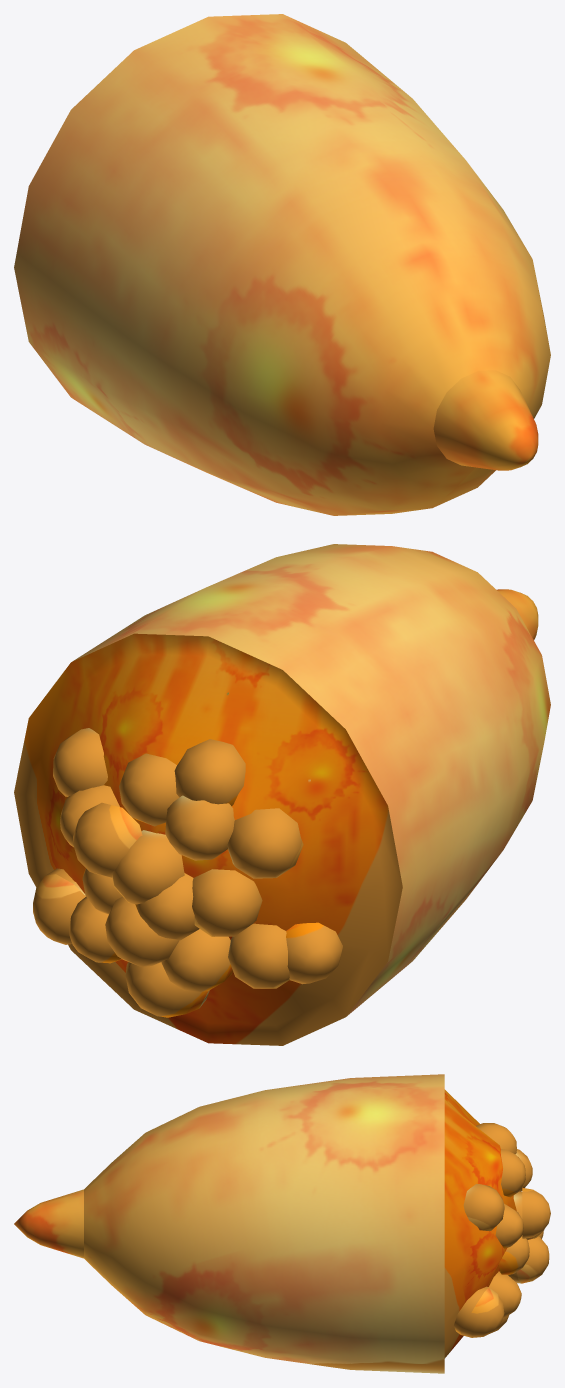
The model's file is FingerLime_02_Half.fbx.
3 views of the same model, one above another, from view 1: azimuth 30°, elevation 25°; view 2: azimuth 150°, elevation 25°; view 3: azimuth 270°, elevation 25° (orthographic). The views are drawn at different scales.
Parts seen in each view (by area): view 1: FingerLime_02_Half; view 2: FingerLime_02_Half; view 3: FingerLime_02_Half.
Boxes of the visible parts, bbox=[...] form: FingerLime_02_Half: bbox=[14, 14, 550, 515]; FingerLime_02_Half: bbox=[14, 544, 550, 1045]; FingerLime_02_Half: bbox=[14, 1074, 550, 1373].
Bounding box in the file's own units: 19.5 × 19.5 × 34.93.
